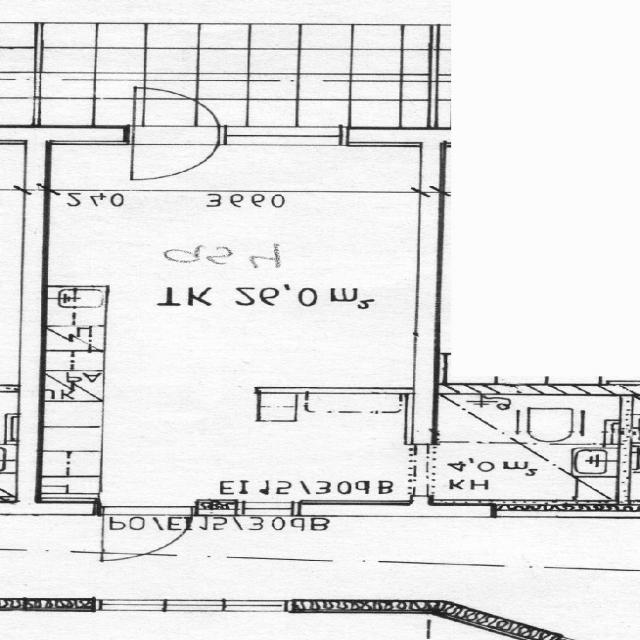door: (104, 498, 193, 558), (134, 127, 219, 189), (134, 85, 219, 147)
